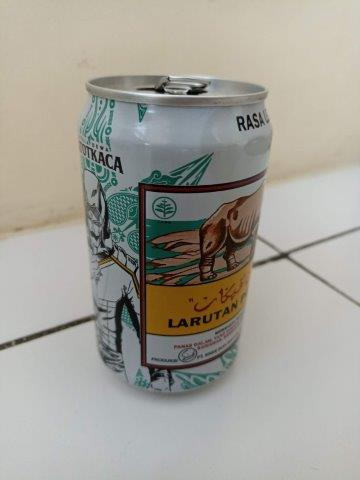kaleng: (79, 75, 273, 389)
